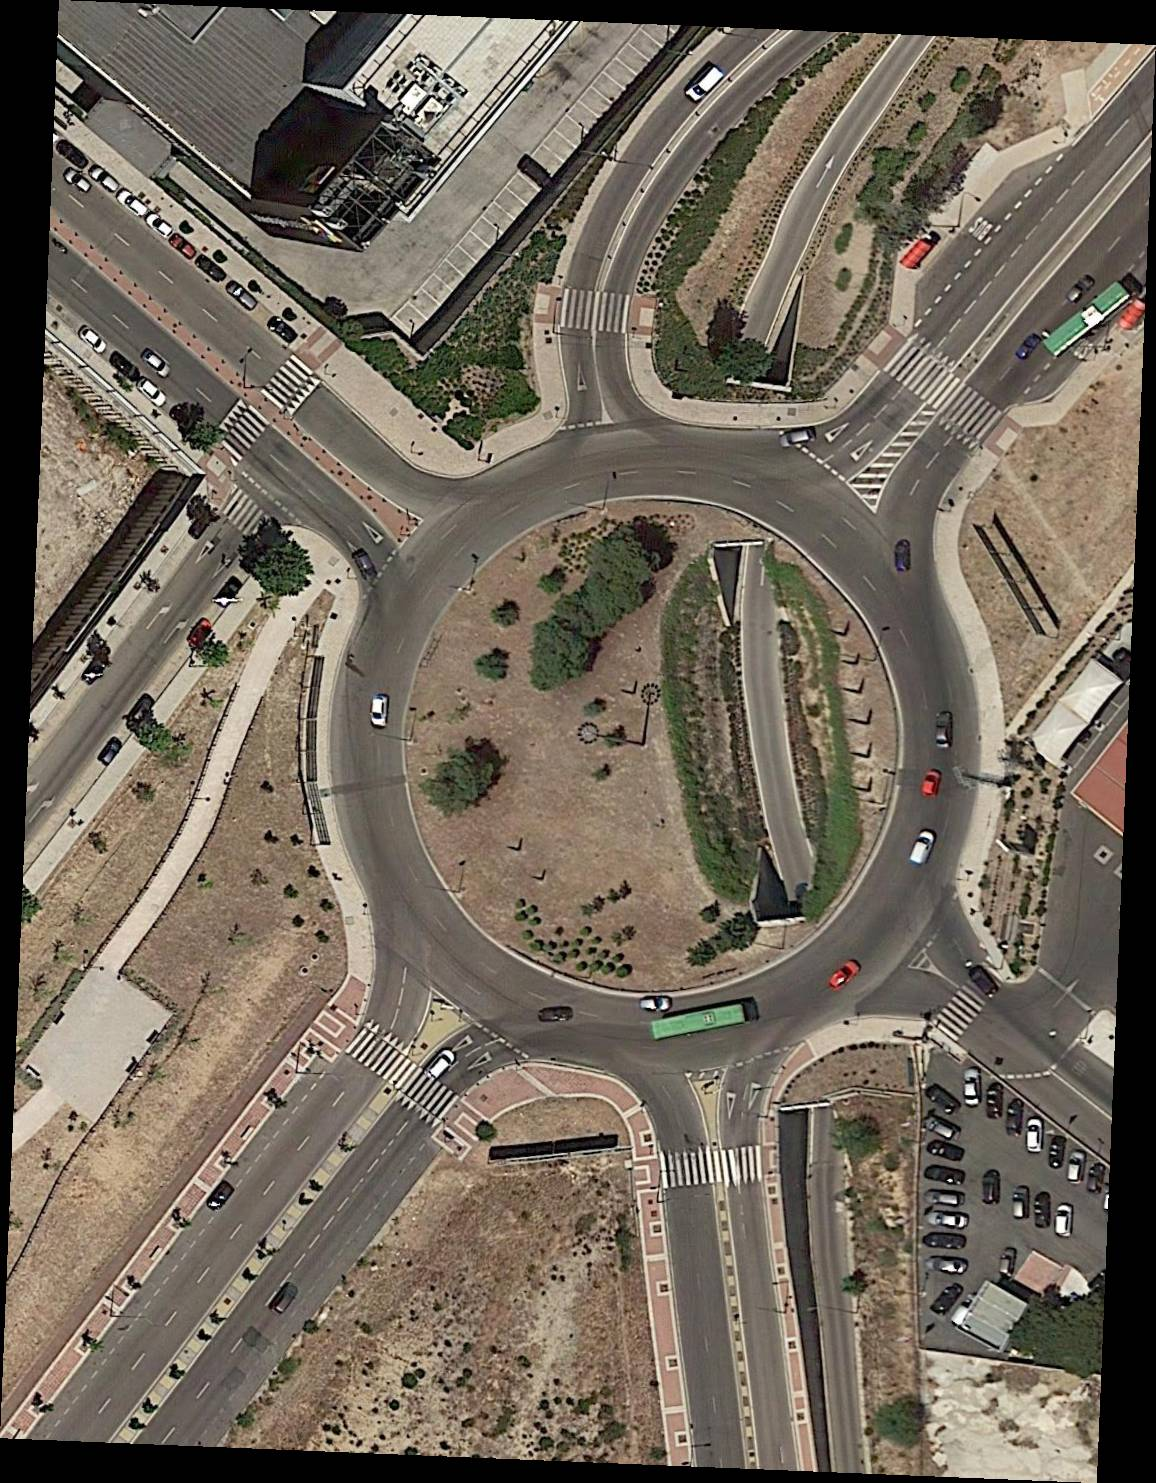large vehicle: (1043, 272, 1143, 360), (651, 1002, 759, 1041)
roundabout: (264, 371, 1046, 1138)
small vehicle: (686, 63, 724, 104), (827, 958, 863, 992), (928, 1284, 962, 1319), (110, 350, 142, 384), (424, 1048, 456, 1081), (206, 1180, 237, 1212), (77, 324, 110, 355), (226, 280, 258, 312), (269, 1282, 299, 1314), (136, 378, 169, 408), (196, 254, 228, 284), (89, 165, 120, 195), (924, 1116, 960, 1141), (928, 1083, 959, 1113), (119, 189, 151, 218), (128, 695, 155, 727), (910, 831, 936, 865), (185, 618, 214, 648), (267, 317, 297, 345), (1067, 274, 1096, 303), (142, 350, 172, 378), (928, 1141, 966, 1162), (96, 738, 123, 766), (169, 234, 196, 260), (147, 212, 173, 240), (64, 170, 92, 196), (927, 1166, 966, 1184), (1052, 1206, 1074, 1237), (930, 1210, 967, 1228), (1068, 1152, 1089, 1184), (1026, 1117, 1044, 1153), (965, 1069, 981, 1107), (1011, 1183, 1030, 1218), (1046, 1135, 1064, 1170), (936, 714, 952, 750), (926, 1192, 962, 1209), (931, 1258, 966, 1275), (779, 431, 812, 449), (983, 1171, 1001, 1204), (1087, 1162, 1105, 1194), (1018, 335, 1039, 361), (927, 1235, 966, 1249), (538, 1008, 571, 1024), (1036, 1193, 1051, 1228), (922, 769, 943, 796), (998, 1249, 1018, 1277), (1008, 1101, 1024, 1135), (372, 695, 388, 726), (986, 1086, 1001, 1119), (898, 540, 913, 571), (639, 998, 670, 1011)
